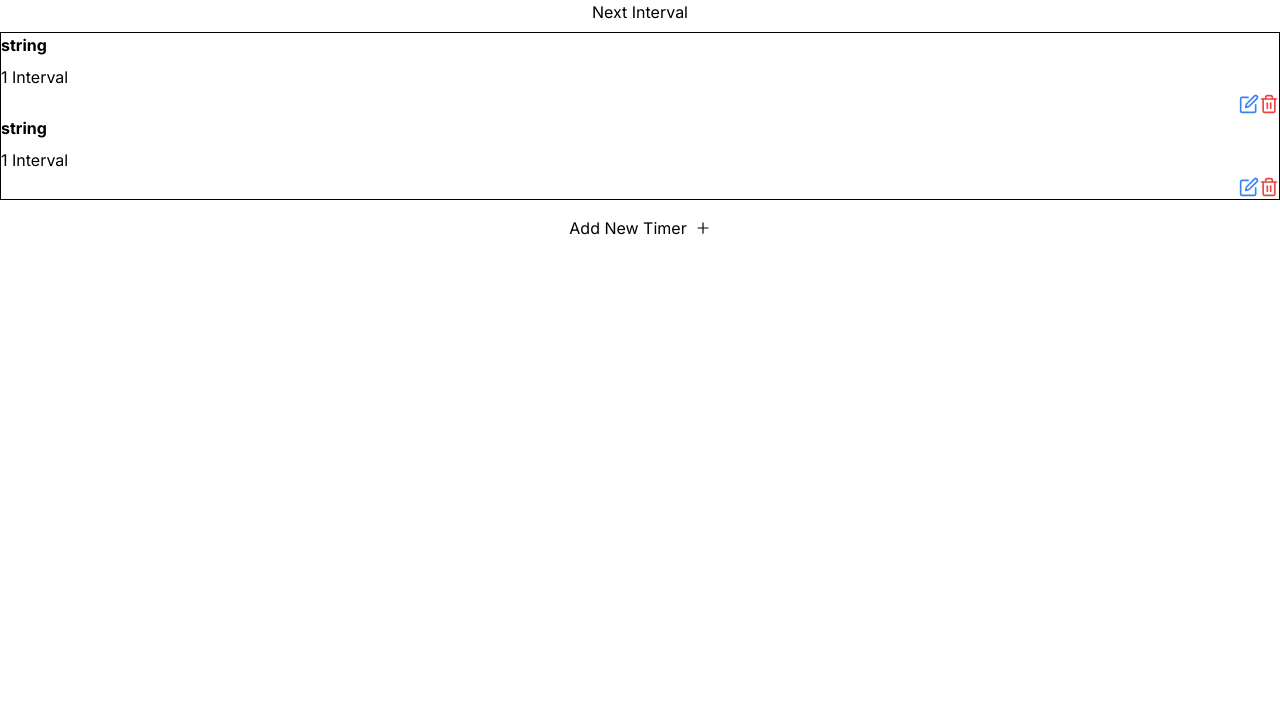
it: Timer Tab Rendering › should render Add Timer Modal properly when add Timer Button clicked
Step 1. Click the button with test id "addTimerButton" → (640, 228), box [256,216,1024,240]
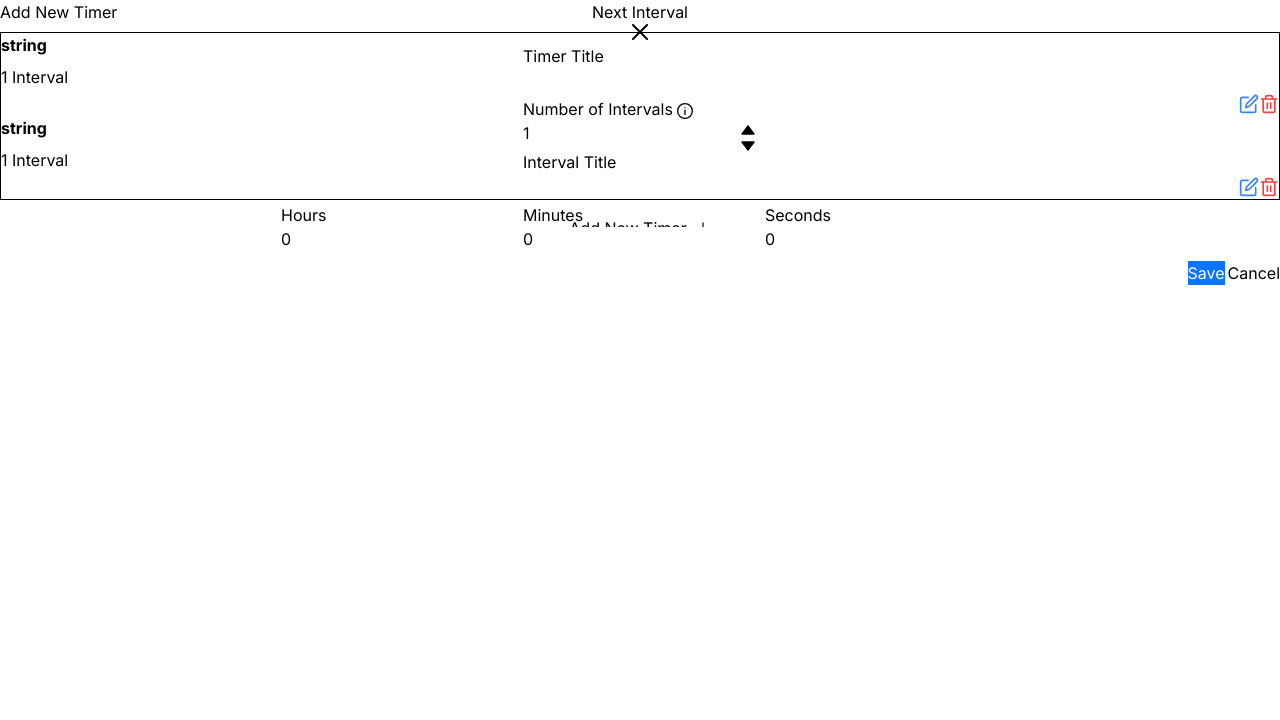
Expected: the field with test id "addTimerIntervalTitle" is shown, [523,174,757,198]
Expected: the number field labelled "Seconds" is shown, [765,227,999,251]
Expected: the button with test id "addTimerSave" is shown, [1188,261,1224,285]
